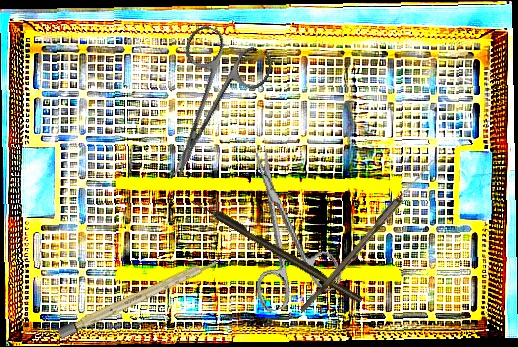Hook Surgical: (189, 195, 364, 305)
Iris Scissors: (134, 20, 277, 194), (222, 139, 346, 314)
Scalpel Handle: (57, 253, 223, 340)
Surgical Spoon: (299, 156, 437, 316)
